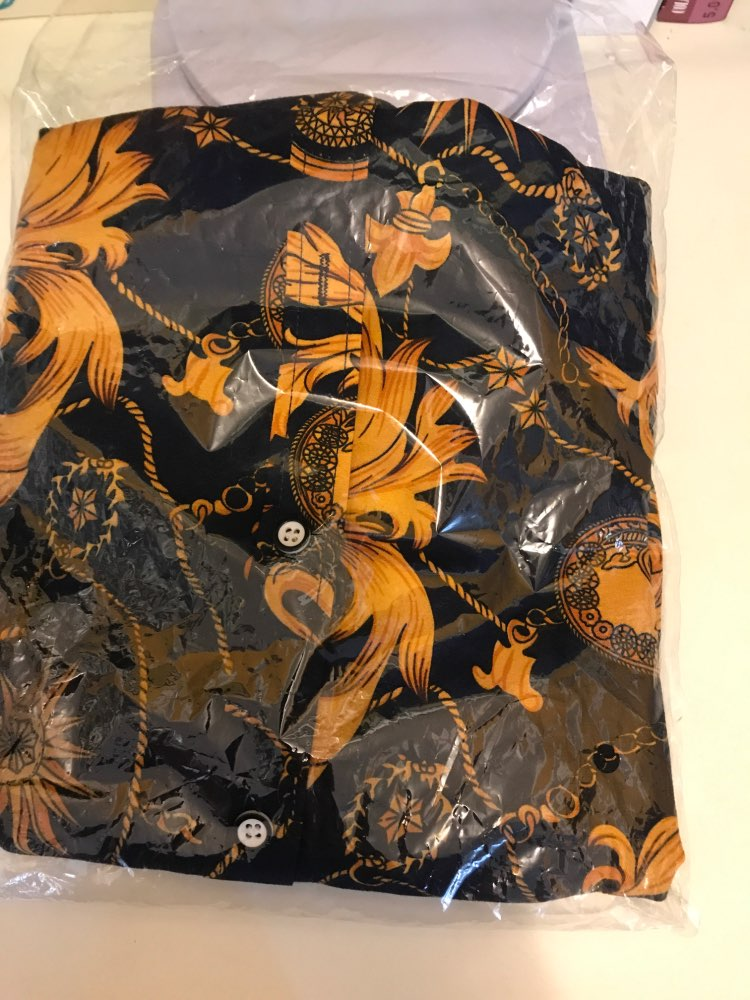shirts: (62, 127, 646, 863)
